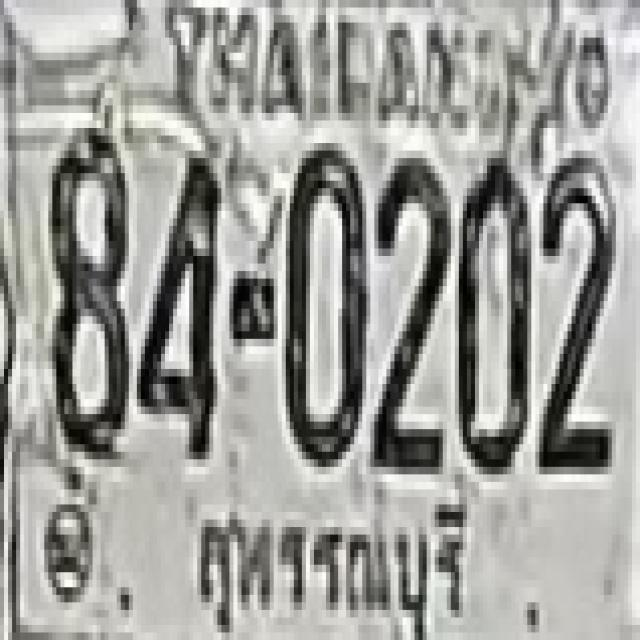0: (282, 139, 362, 463), (455, 150, 527, 467)
2: (535, 150, 612, 467), (370, 154, 447, 463)
4: (135, 143, 219, 452)
8: (48, 120, 125, 452)
SPB: (169, 482, 491, 640)
